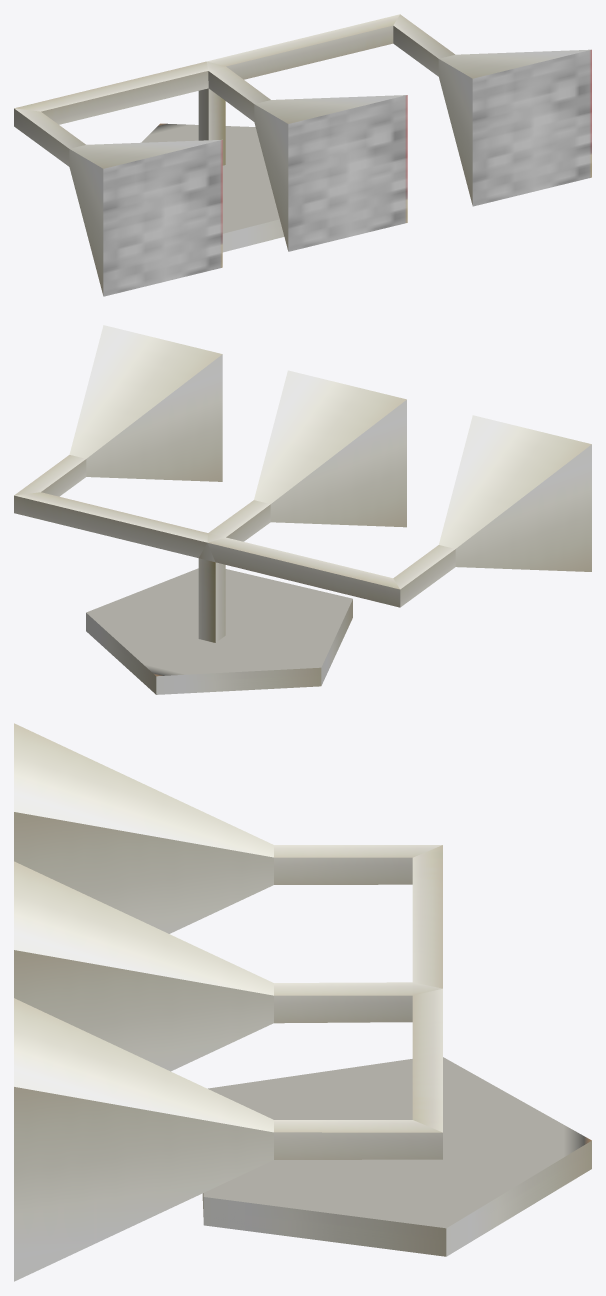
File: BathroomLights.fbx
The picture shows the model from 3 angles, top to bottom: view 1: azimuth 30°, elevation 25°; view 2: azimuth 150°, elevation 25°; view 3: azimuth 270°, elevation 25°; orthographic projection. The views are drawn at different scales.
Parts seen in each view (by area): view 1: Maya_File_Assets:TexturedAssetsCurrent:JohnPepper02Assets:Ba; view 2: Maya_File_Assets:TexturedAssetsCurrent:JohnPepper02Assets:Ba; view 3: Maya_File_Assets:TexturedAssetsCurrent:JohnPepper02Assets:Ba.
Boxes of the visible parts, x1=… form: Maya_File_Assets:TexturedAssetsCurrent:JohnPepper02Assets:Ba: x1=14, y1=14, x2=591, y2=296; Maya_File_Assets:TexturedAssetsCurrent:JohnPepper02Assets:Ba: x1=14, y1=325, x2=591, y2=694; Maya_File_Assets:TexturedAssetsCurrent:JohnPepper02Assets:Ba: x1=14, y1=723, x2=591, y2=1281.
Size of the model in its own units: 0.9944 by 0.3348 by 0.668.
